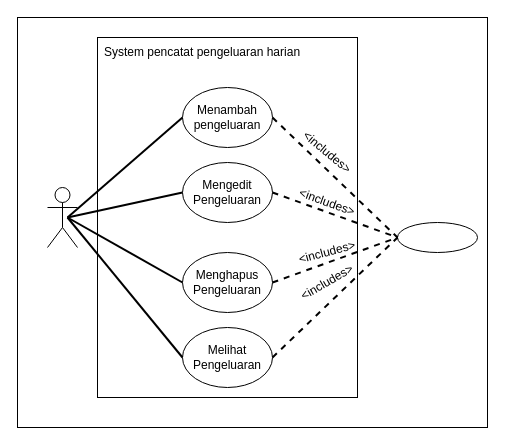
Image size: 505x445. Some labels were removed from this diagram. The shapes that lost their labels are listed below. From the top down, each one's centre as x and y in pixels, then its label:
At pixel 62 217: "User".
At pixel 437 237: "Login".
